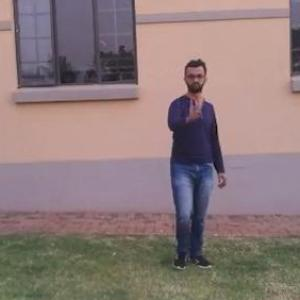takeoff-hand: (176, 85, 209, 126)
